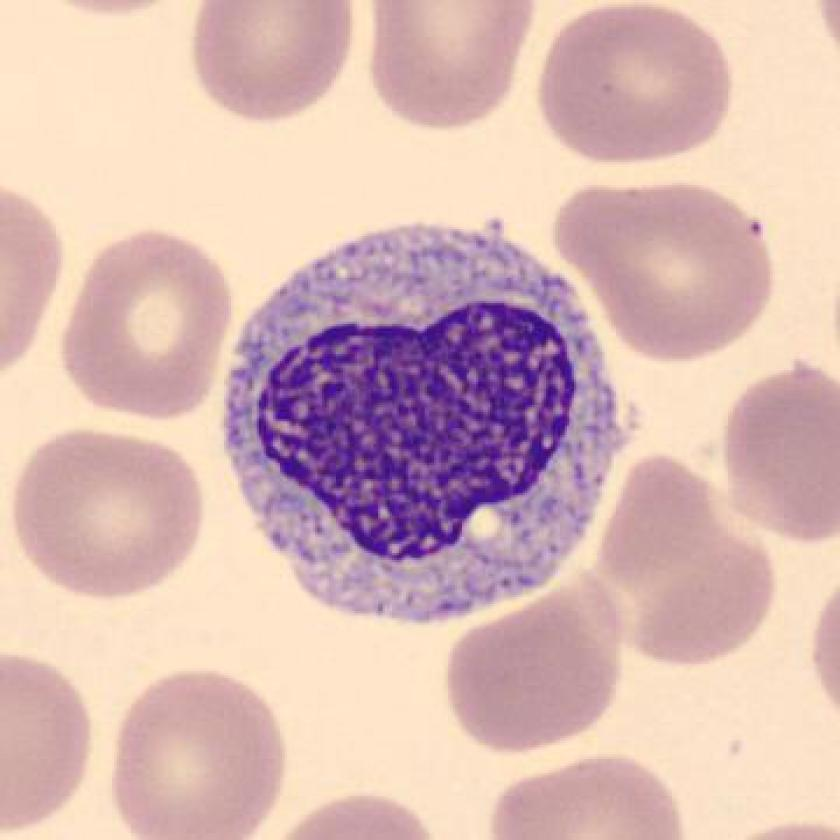monocyte: (207, 207, 655, 647)
